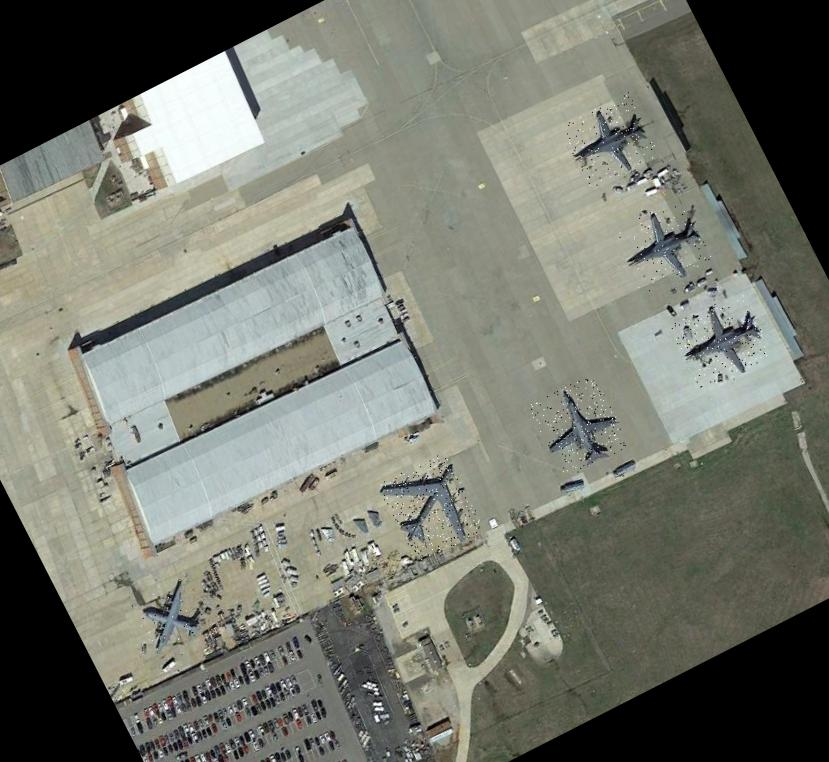A10: (526, 372, 630, 479), (668, 289, 773, 391), (558, 91, 660, 190), (610, 196, 713, 294)
A2: (128, 578, 210, 658)
A8: (376, 450, 485, 564)
